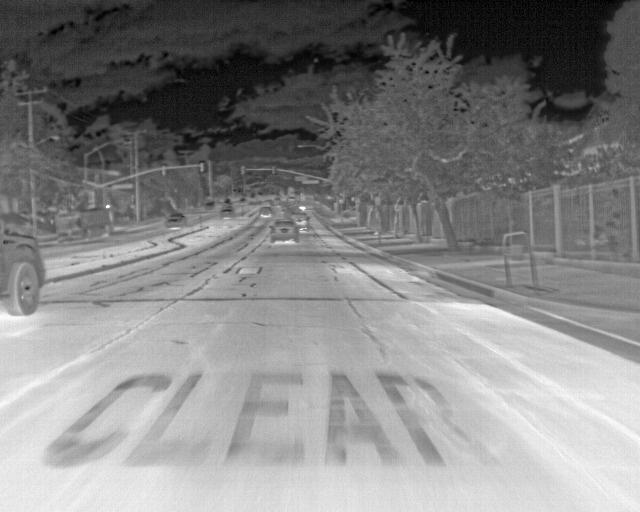car: (0, 222, 50, 317), (54, 205, 109, 246), (269, 222, 300, 245), (164, 211, 185, 229), (290, 216, 306, 232), (257, 206, 271, 220), (219, 204, 233, 218)
